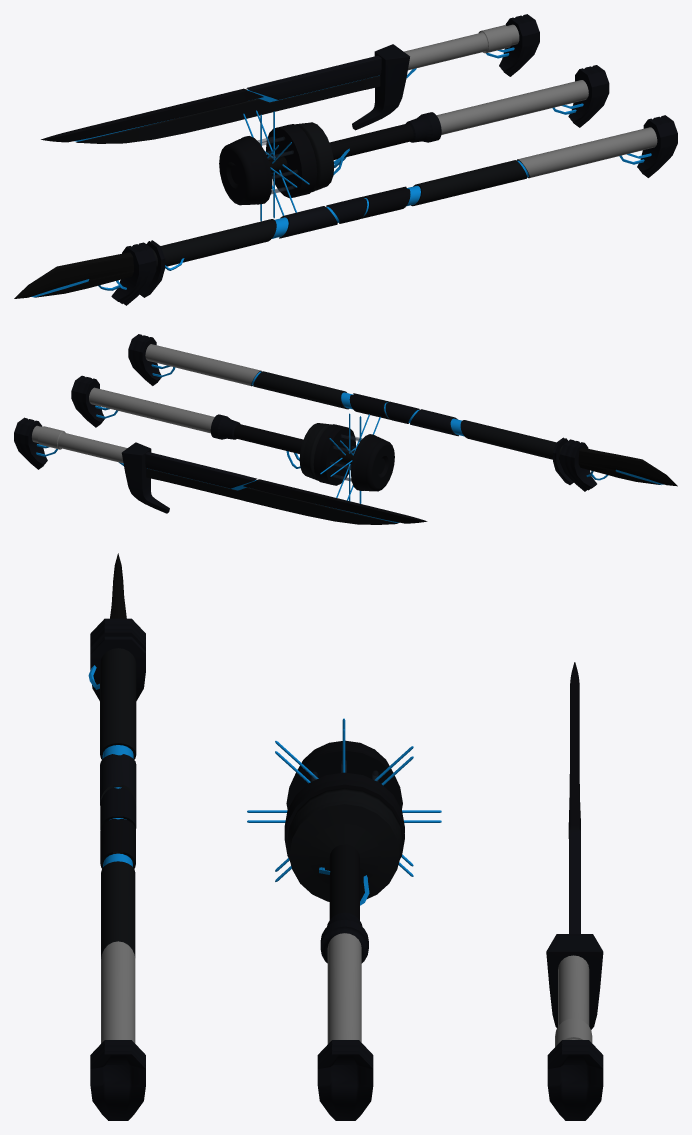
Rendered from Blue Sword.FBX.
The picture shows the model from 3 angles, top to bottom: view 1: azimuth 30°, elevation 25°; view 2: azimuth 150°, elevation 25°; view 3: azimuth 270°, elevation 25°; orthographic projection. The views are drawn at different scales.
Parts seen in each view (by area): view 1: polySurface26, group15_pasted__group12_pasted__pasted__group4_pasted__pCube, group9_pasted__group4_pasted__pCube4_pasted__polySurface24; view 2: polySurface26, group15_pasted__group12_pasted__pasted__group4_pasted__pCube, group9_pasted__group4_pasted__pCube4_pasted__polySurface24; view 3: group9_pasted__group4_pasted__pCube4_pasted__polySurface24, polySurface26, group15_pasted__group12_pasted__pasted__group4_pasted__pCube.
Boxes of the visible parts, x1,y1,x2,y2 form: polySurface26: (14,115,677,305); group15_pasted__group12_pasted__pasted__group4_pasted__pCube: (41,14,539,143); group9_pasted__group4_pasted__pCube4_pasted__polySurface24: (219,65,609,221); polySurface26: (128,334,677,491); group15_pasted__group12_pasted__pasted__group4_pasted__pCube: (14,417,427,524); group9_pasted__group4_pasted__pCube4_pasted__polySurface24: (71,375,394,503); group9_pasted__group4_pasted__pCube4_pasted__polySurface24: (247,718,441,1120); polySurface26: (88,553,145,1120); group15_pasted__group12_pasted__pasted__group4_pasted__pCube: (546,662,603,1120).
Size of the model in its own units: 10.02 by 1.56 by 4.12.
